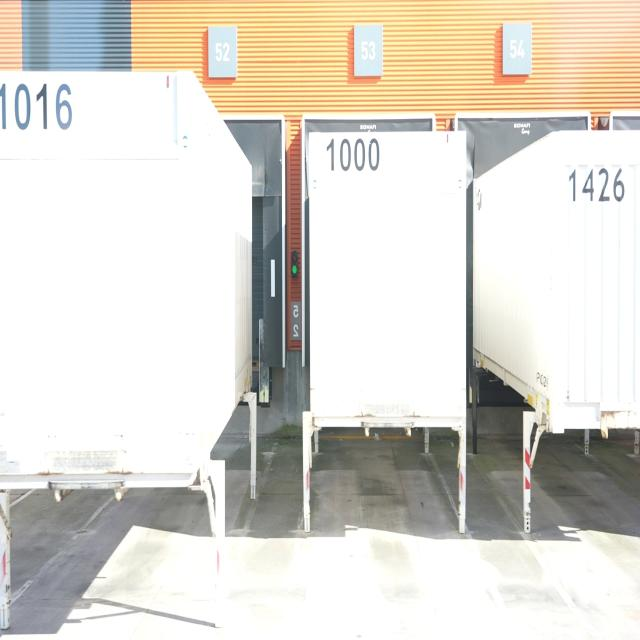Code: (0, 76, 74, 140), (562, 159, 626, 213), (319, 130, 379, 178)
